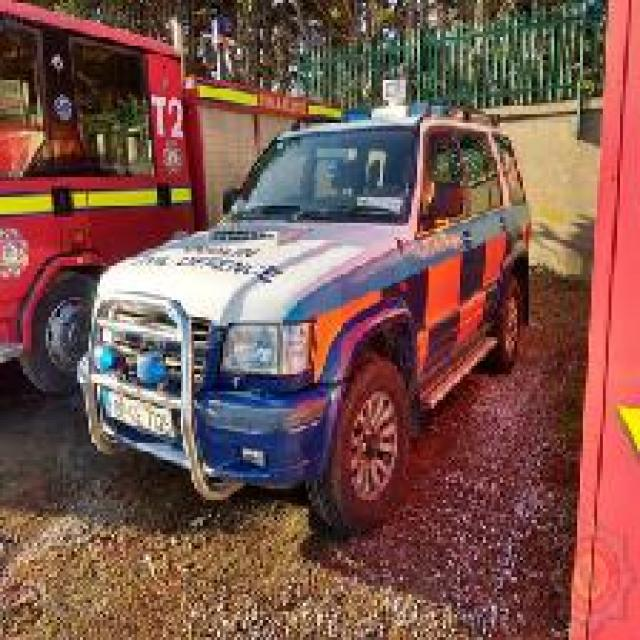Fire-truck: (0, 0, 340, 397)
Police-car: (71, 97, 532, 534)
